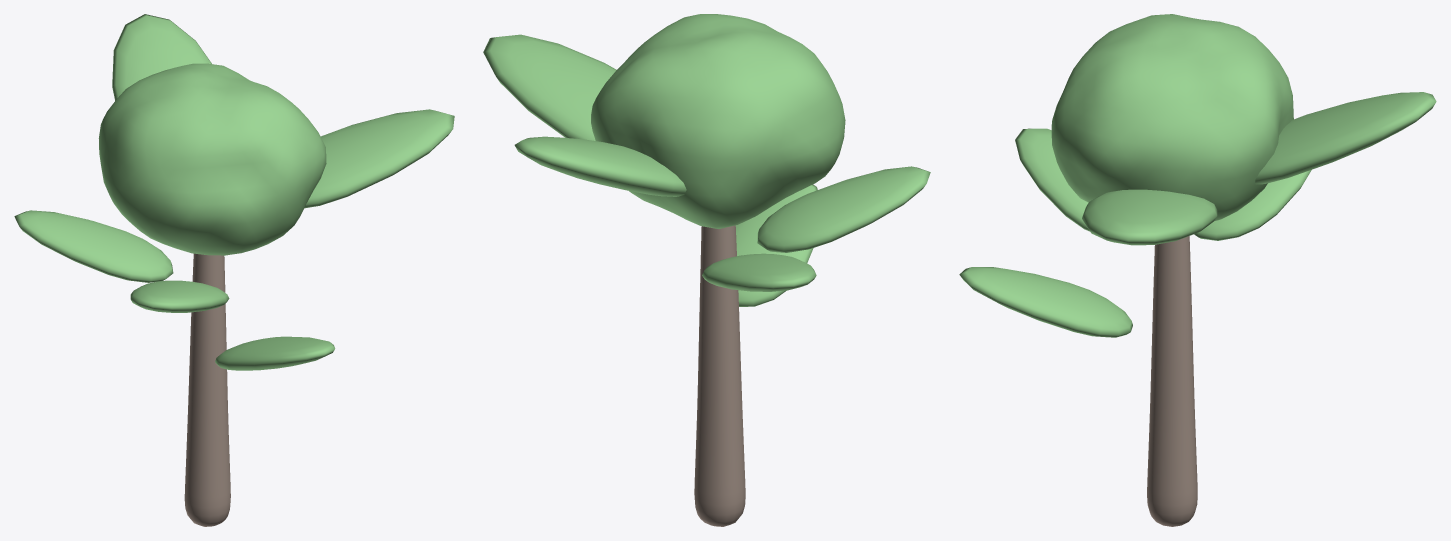
Rendered from tree_sprout_1.glb.
The picture shows the model from 3 angles, left to right: view 1: azimuth 30°, elevation 25°; view 2: azimuth 150°, elevation 25°; view 3: azimuth 270°, elevation 25°; orthographic projection. The views are drawn at different scales.
Visible parts, largest first — view 1: leaf_5, trunk, leaf_0, leaf_2, leaf_1, leaf_4, leaf_3; view 2: leaf_5, trunk, leaf_0, leaf_3, leaf_1, leaf_2, leaf_4; view 3: leaf_5, trunk, leaf_1, leaf_4, leaf_0, leaf_3, leaf_2.
Boxes of the visible parts, x1,y1,x2,y2 form: leaf_5: (98,63,326,255); trunk: (184,253,230,526); leaf_0: (304,109,454,208); leaf_2: (14,210,173,282); leaf_1: (112,14,211,100); leaf_4: (215,336,335,370); leaf_3: (130,280,229,312); leaf_5: (591,14,845,228); trunk: (694,225,745,526); leaf_0: (483,34,616,140); leaf_3: (757,166,930,252); leaf_1: (514,136,686,196); leaf_2: (702,253,816,291); leaf_4: (735,184,817,306); leaf_5: (1051,14,1293,221); trunk: (1147,236,1197,526); leaf_1: (1255,92,1436,184); leaf_4: (959,267,1132,337); leaf_0: (1082,189,1217,245); leaf_3: (1015,128,1089,231); leaf_2: (1194,169,1311,240).
Size of the model in its own units: 0.7597 by 0.8895 by 0.784.
